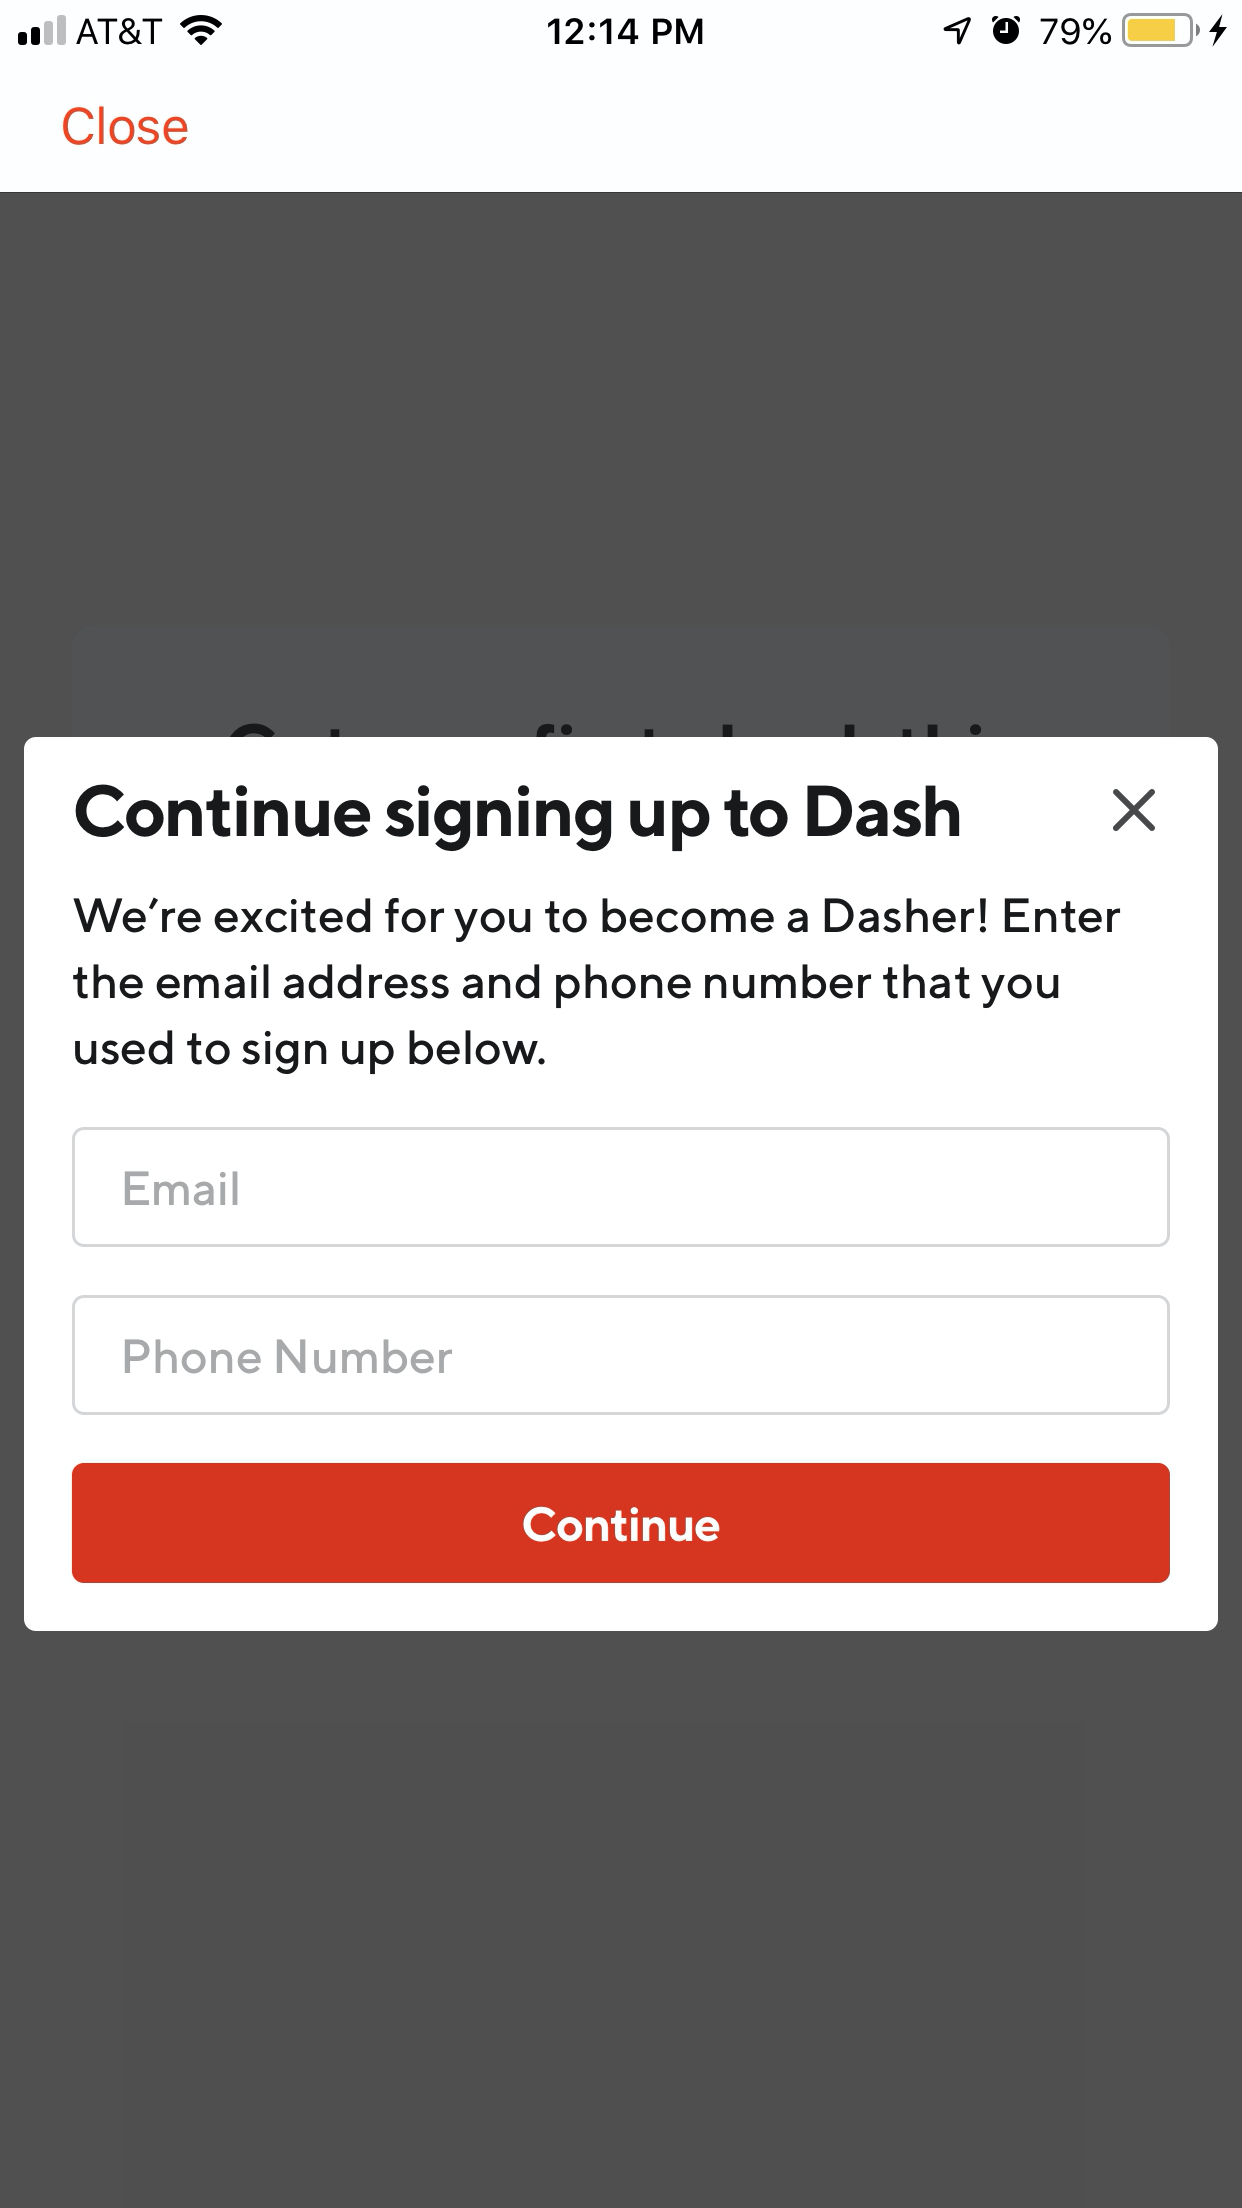EditText: (73, 1127, 1171, 1248), (73, 1295, 1171, 1416)
Icon: (1112, 789, 1156, 833)
Modal: (24, 737, 1219, 1632)
Text: (73, 898, 1122, 1077), (74, 784, 960, 852), (124, 1339, 453, 1375), (64, 106, 190, 146), (124, 1171, 240, 1207)
TextButton: (71, 1463, 1171, 1585)
UpperTaskBar: (2, 2, 1242, 49)
